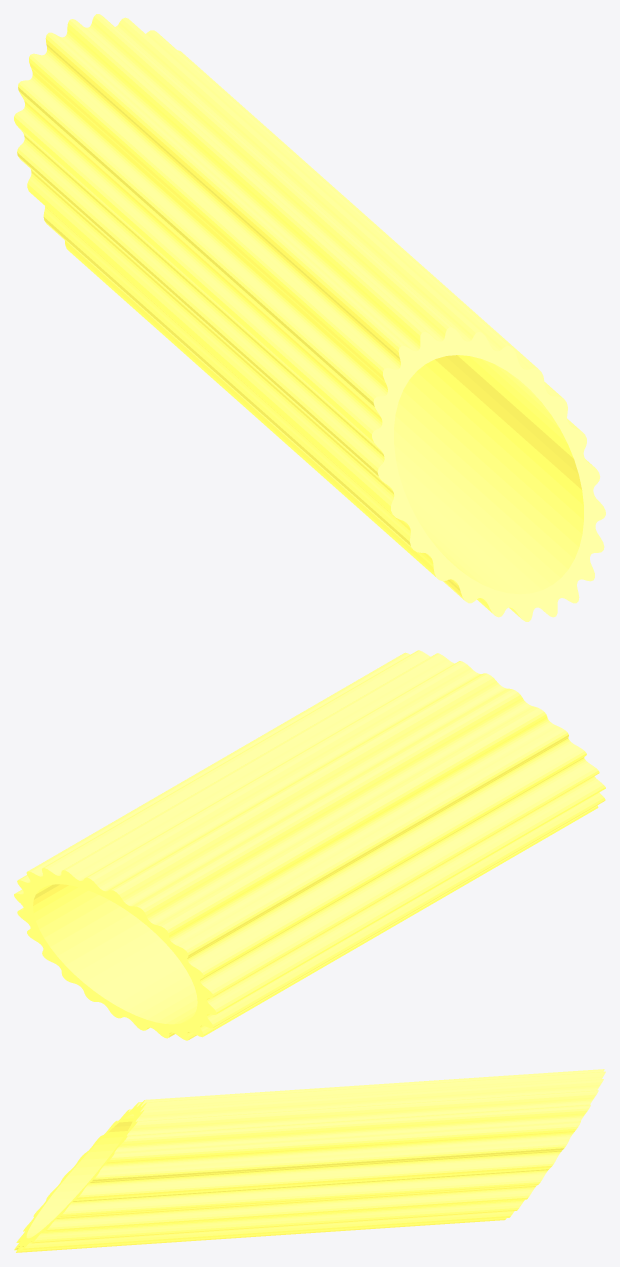
The model's file is Penne.001.gltf.
The picture shows the model from 3 angles, top to bottom: view 1: azimuth 30°, elevation 25°; view 2: azimuth 150°, elevation 25°; view 3: azimuth 270°, elevation 25°; orthographic projection. The views are drawn at different scales.
Visible parts, largest first — view 1: Penne.001; view 2: Penne.001; view 3: Penne.001.
Boxes of the visible parts, x1,y1,x2,y2 form: Penne.001: [14, 14, 605, 621]; Penne.001: [14, 650, 605, 1040]; Penne.001: [14, 1069, 605, 1252].
Bounding box in the file's own units: 0.8746 × 1.13 × 3.52.
